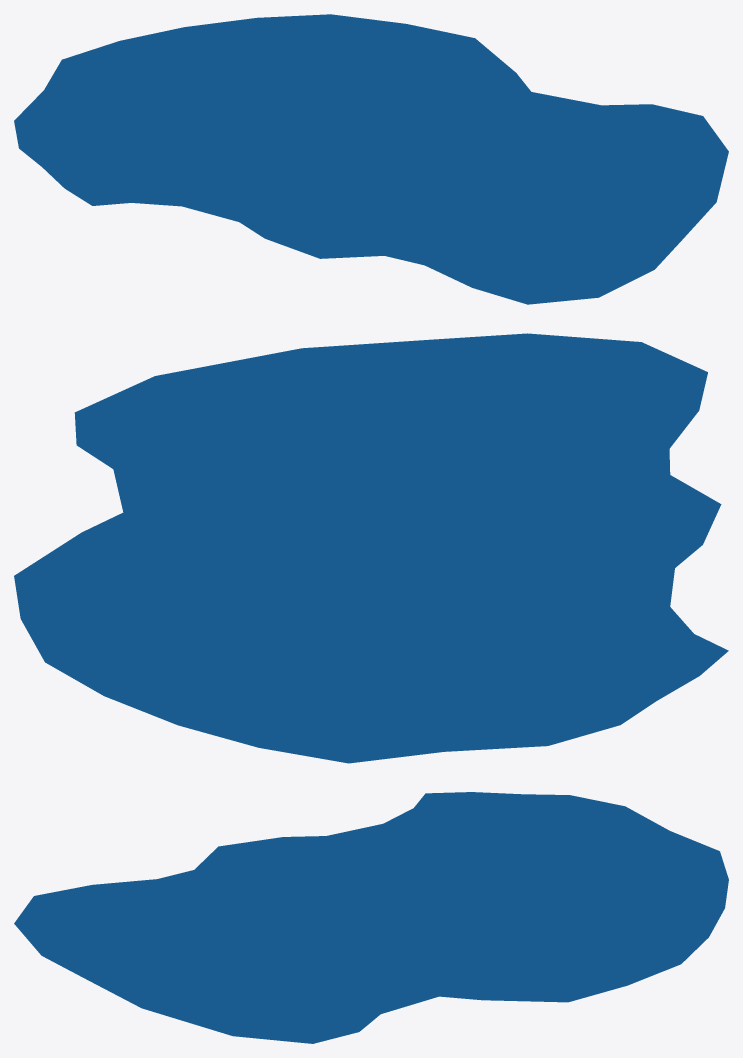
The model's file is OceanHero.gltf.
3 renders of one model, top to bottom at view 1: azimuth 30°, elevation 25°; view 2: azimuth 150°, elevation 25°; view 3: azimuth 270°, elevation 25°, orthographic. The views are drawn at different scales.
Parts seen in each view (by area): view 1: Plane; view 2: Plane; view 3: Plane.
Part boxes in pixels (box(x1,y1,x2,y2)): Plane: box(14, 14, 728, 304); Plane: box(14, 333, 728, 763); Plane: box(14, 792, 728, 1043).
Bounding box in the file's own units: 19.01 × 0 × 22.79.
